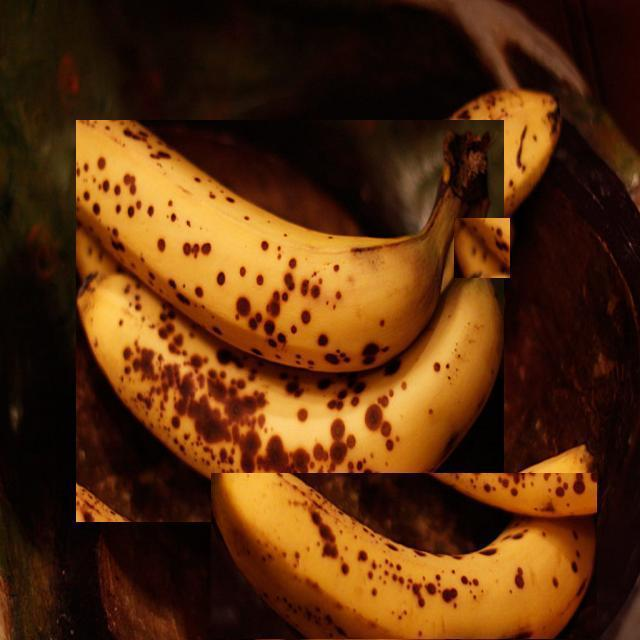Banana: (75, 120, 504, 470), (211, 473, 597, 639)
